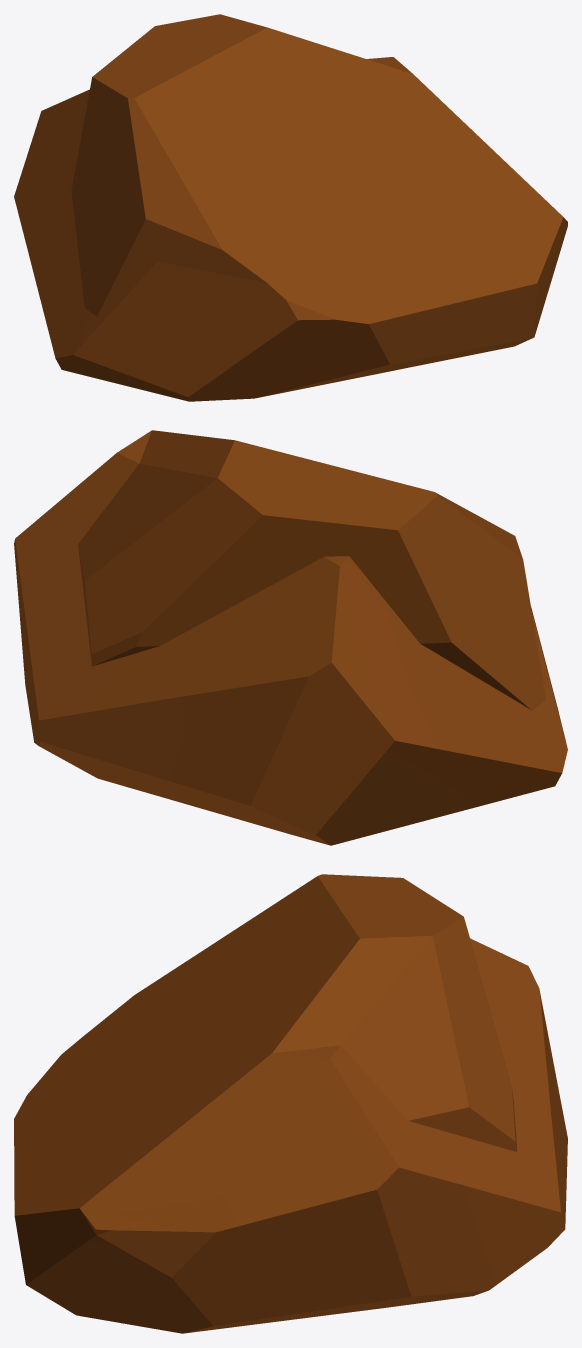
Rendered from Stone_2.FBX.
3 views of the same model, one above another, from view 1: azimuth 30°, elevation 25°; view 2: azimuth 150°, elevation 25°; view 3: azimuth 270°, elevation 25° (orthographic). The views are drawn at different scales.
Visible parts, largest first — view 1: Stone_2; view 2: Stone_2; view 3: Stone_2.
Boxes of the visible parts, x1=… form: Stone_2: x1=14, y1=14, x2=567, y2=401; Stone_2: x1=14, y1=430, x2=567, y2=845; Stone_2: x1=14, y1=874, x2=567, y2=1333.
Bounding box in the file's own units: 98.94 × 56.14 × 92.39.
